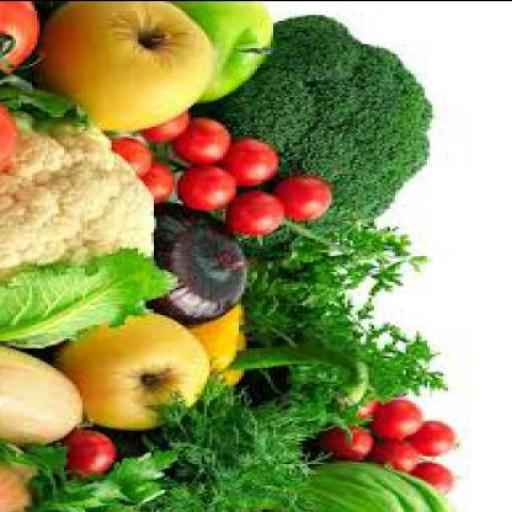biodegradable: (199, 13, 435, 250), (3, 80, 183, 352), (254, 222, 449, 402), (156, 373, 367, 511), (35, 2, 217, 136), (53, 312, 215, 431), (191, 306, 371, 408), (154, 202, 255, 327), (3, 440, 182, 510), (2, 341, 101, 452), (176, 2, 282, 104), (272, 464, 460, 511), (2, 72, 90, 134), (3, 2, 45, 78), (223, 141, 284, 193), (58, 429, 122, 477), (276, 177, 340, 222), (180, 165, 240, 212), (2, 453, 48, 511), (175, 120, 234, 164), (230, 191, 287, 235), (321, 421, 374, 461), (374, 402, 427, 441), (3, 96, 27, 175), (417, 421, 461, 461), (114, 134, 154, 176), (374, 438, 422, 467), (149, 110, 191, 142), (144, 160, 176, 202), (416, 466, 454, 492), (358, 394, 382, 428), (382, 393, 417, 406)
